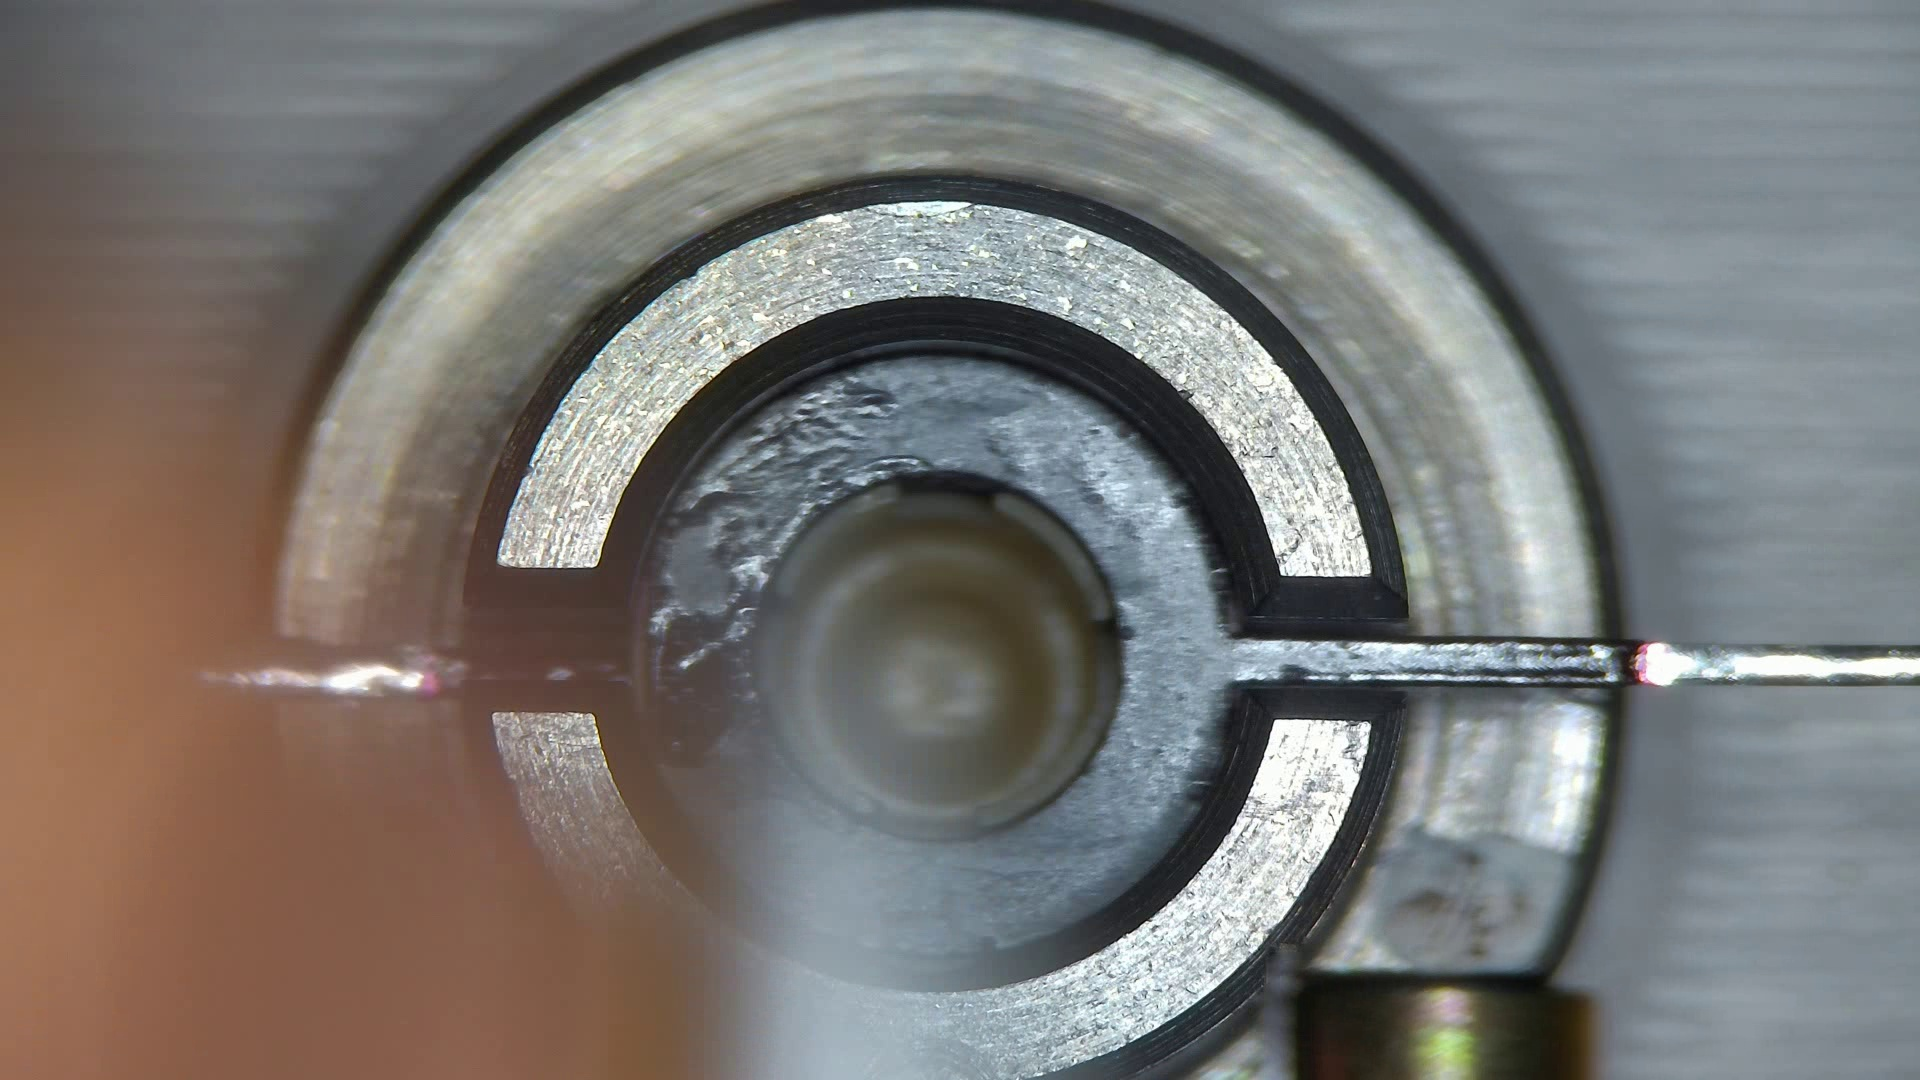YellowOring: (638, 348, 1230, 962)
